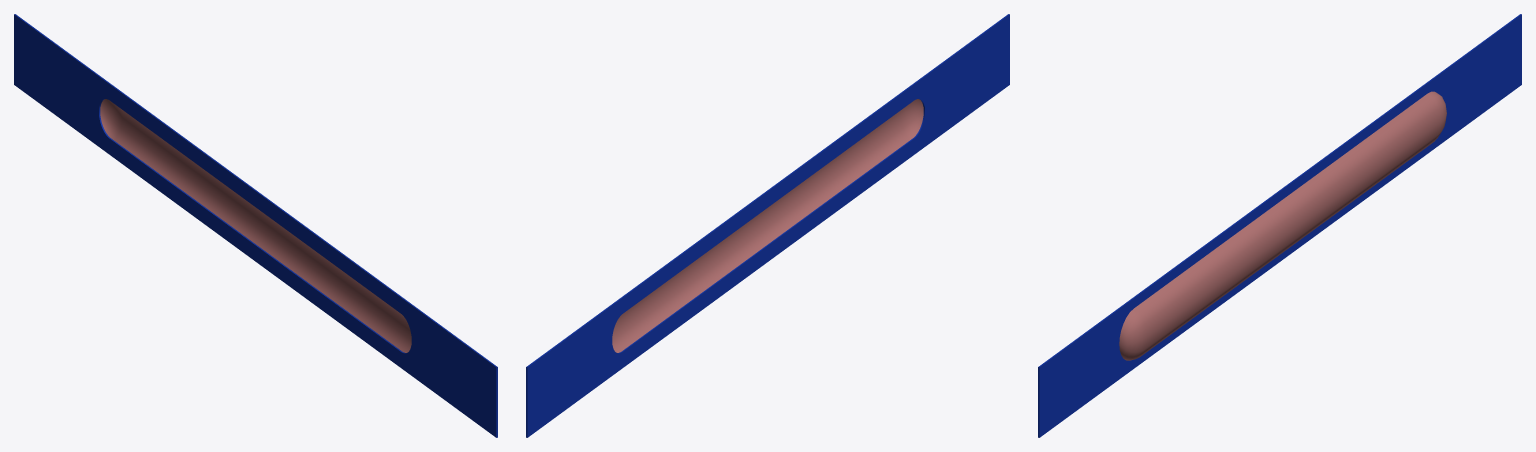
Rendered from 5X63 Long Concave.FBX.
3 views of the same model, side by side, from view 1: azimuth 30°, elevation 25°; view 2: azimuth 150°, elevation 25°; view 3: azimuth 330°, elevation 25° (orthographic).
Parts seen in each view (by area): view 1: Box039; view 2: Box039; view 3: Box039.
Part boxes in pixels (left/top/right/bottom): Box039: left=14, top=14, right=497, bottom=437; Box039: left=526, top=14, right=1009, bottom=437; Box039: left=1038, top=14, right=1521, bottom=437.
Bounding box in the file's own units: 1.08 × 5 × 61.91.
